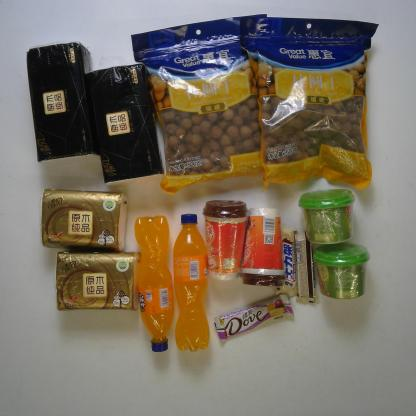Chocolate: (213, 294, 296, 340), (293, 230, 320, 304), (274, 225, 299, 298)
Dried Food: (130, 12, 265, 198), (238, 15, 379, 192)
Drink: (133, 214, 175, 353), (172, 212, 210, 354)
Instant Drink: (202, 200, 250, 283), (239, 207, 288, 288), (297, 187, 356, 245), (313, 242, 371, 300)
Tissue: (84, 61, 164, 187), (25, 40, 101, 164), (39, 187, 129, 253), (54, 252, 140, 312)
